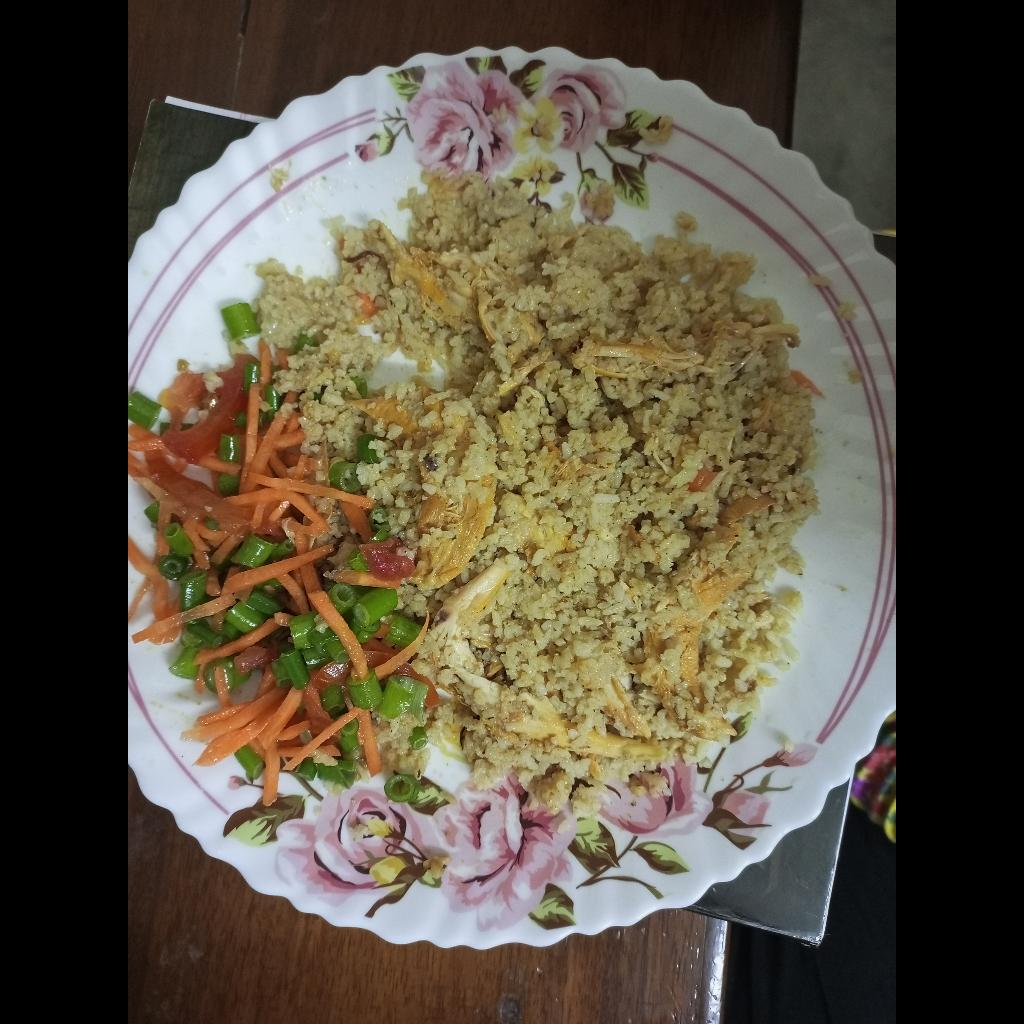biriyani: (258, 150, 823, 828)
salad: (128, 300, 438, 810)
